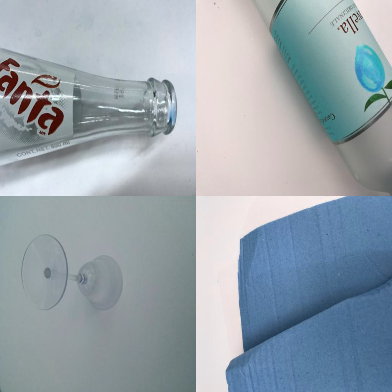cardboard: (225, 196, 392, 391)
glass: (252, 1, 390, 194), (1, 47, 177, 169), (20, 233, 123, 312)
